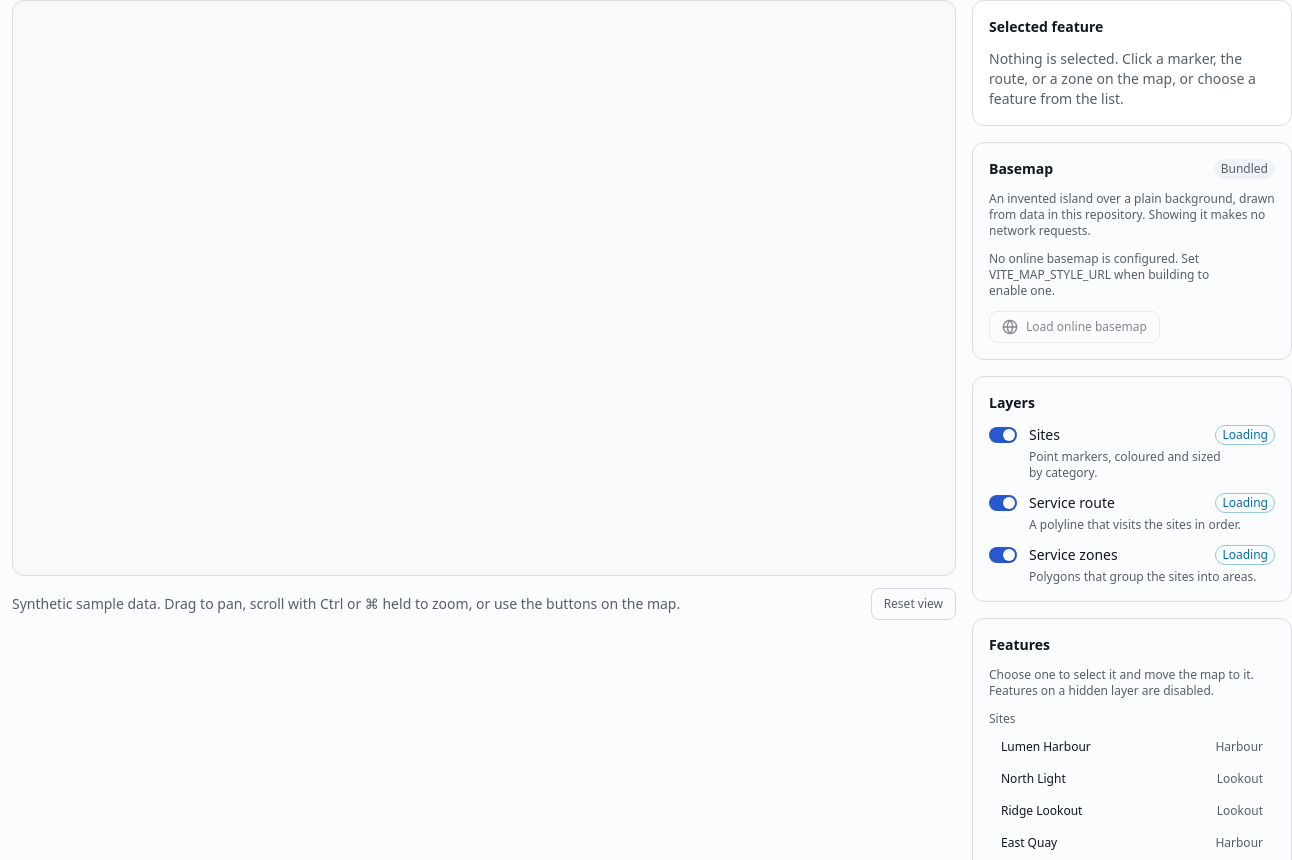
it: selecting a feature › clears the selection when its layer is hidden
The width and height of the screenshot is (1292, 860).
Click the button "Lumen Harbour Harbour" at [1046, 746], box top-left (989, 731), bottom-right (1275, 763)
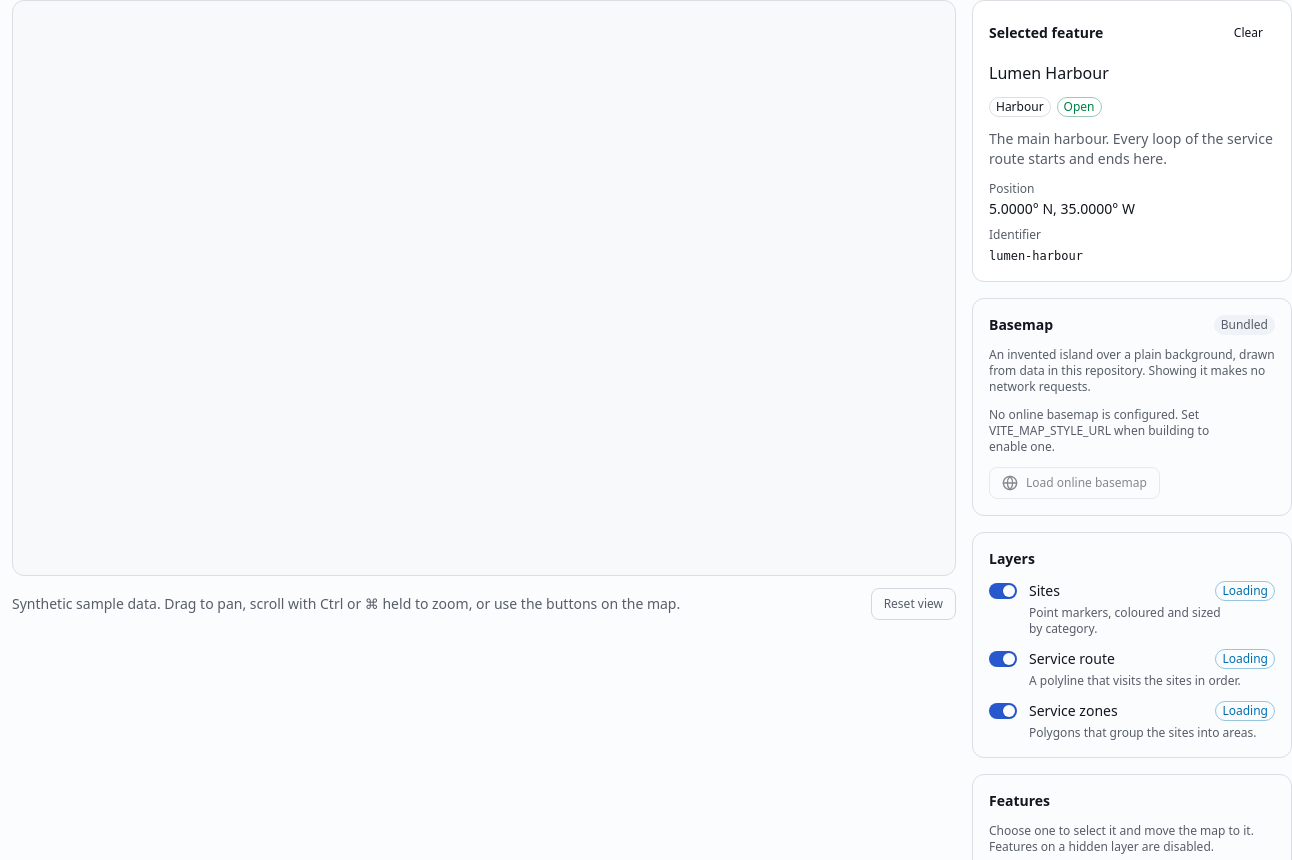
Click the 1st switch named "Sites" at [1003, 591], box top-left (989, 583), bottom-right (1017, 599)
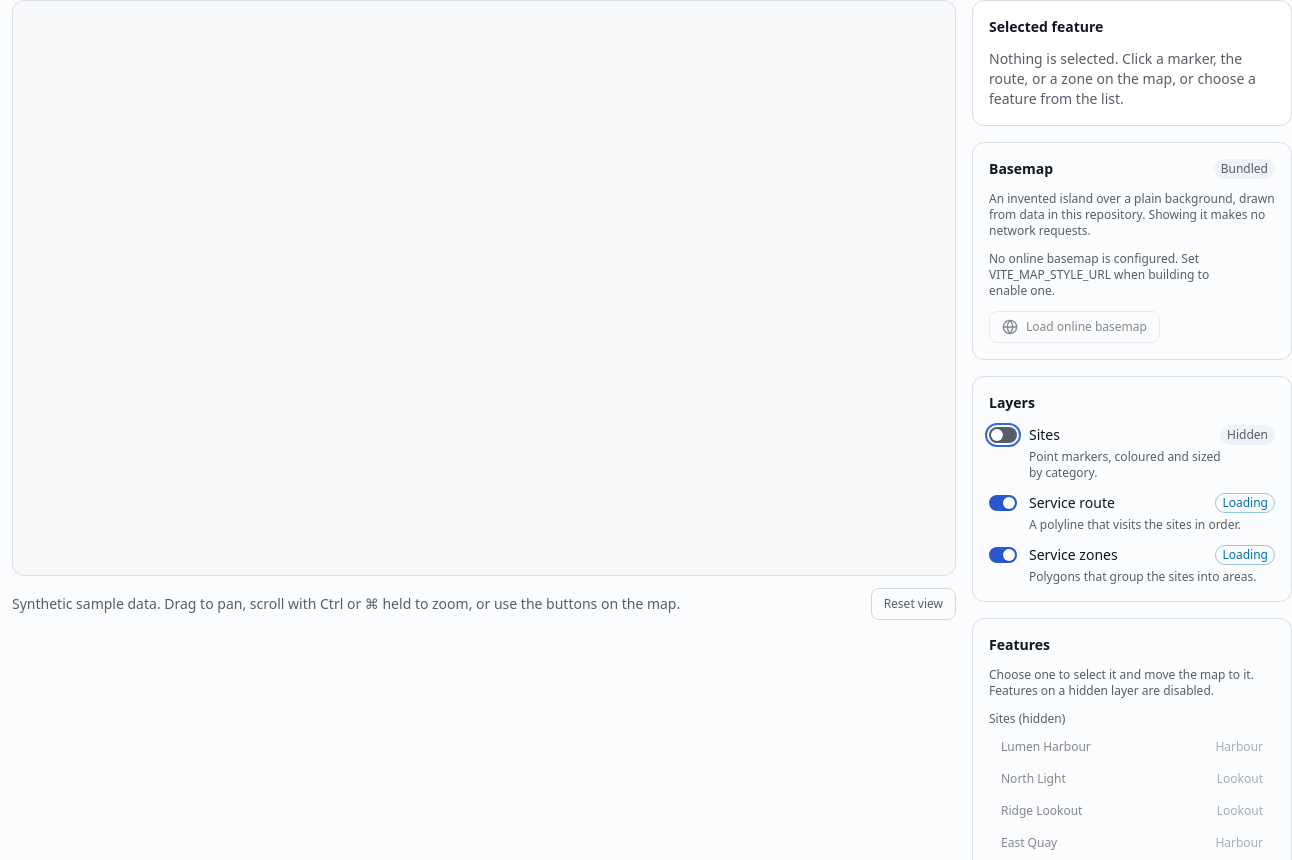
Expected: the text "Nothing is selected" is shown, top-left (989, 49), bottom-right (1256, 108)
